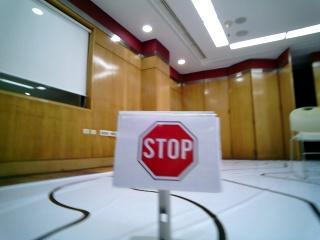stop: (123, 113, 213, 192)
